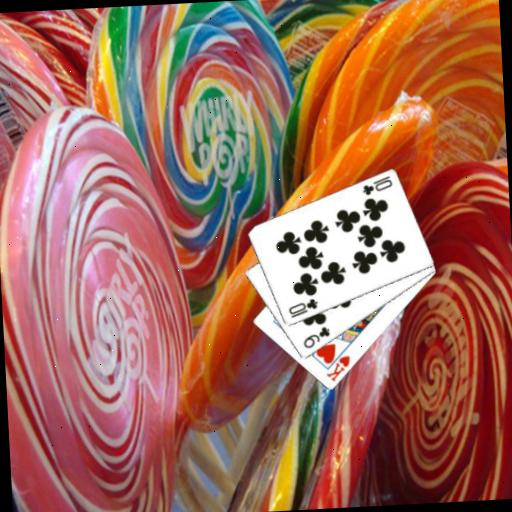10C: (359, 173, 395, 198), (285, 295, 320, 320)
9C: (300, 324, 333, 351)
KH: (323, 353, 353, 384)
